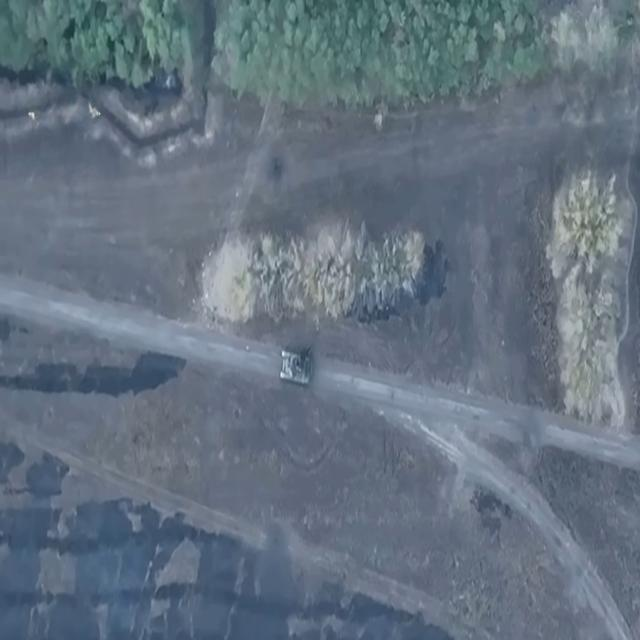MBT: (271, 345, 316, 388)
